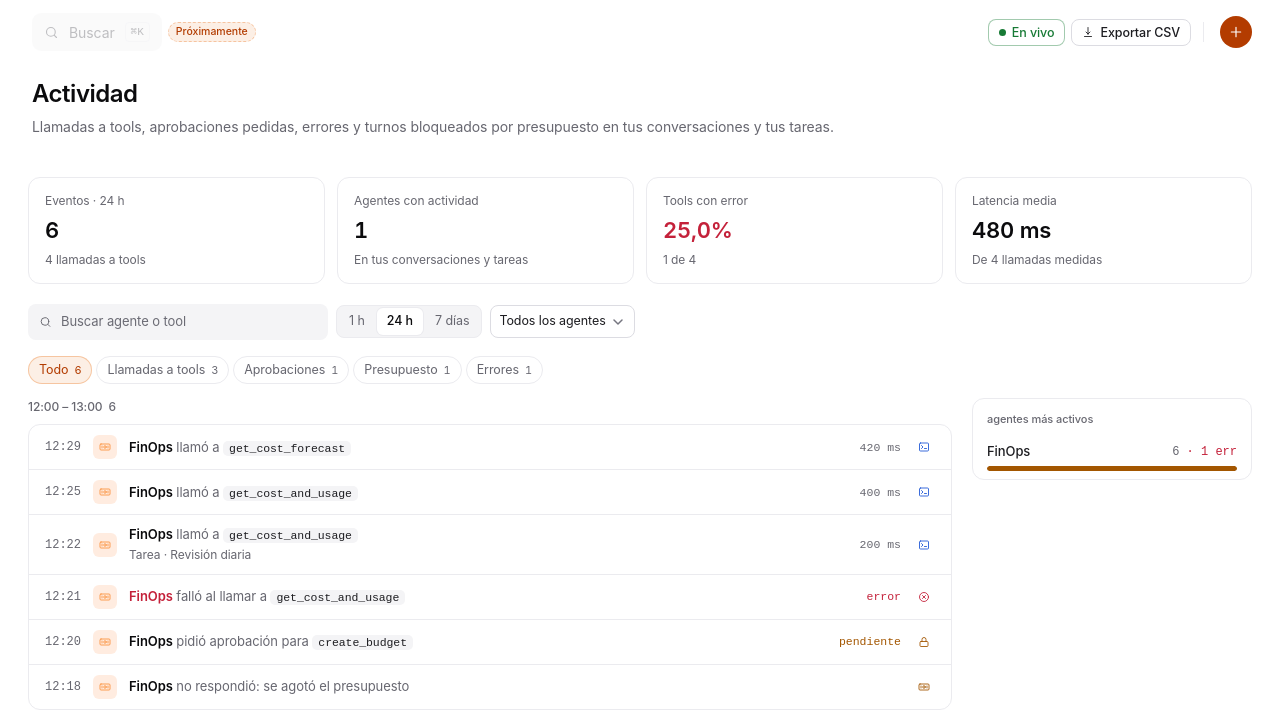
Scenario: ActivityPage › polls every 15 s while live and marks what is new
Check: the text "Tarea · Revisión diaria" is shown, box [129,547,251,562]
Check: the text "get_cost_forecast" is shown, box [223,440,351,456]
Paused: no more polls.
Click the button "En vivo": (1027, 32) [988,18,1066,46]
Wait 60000 ms
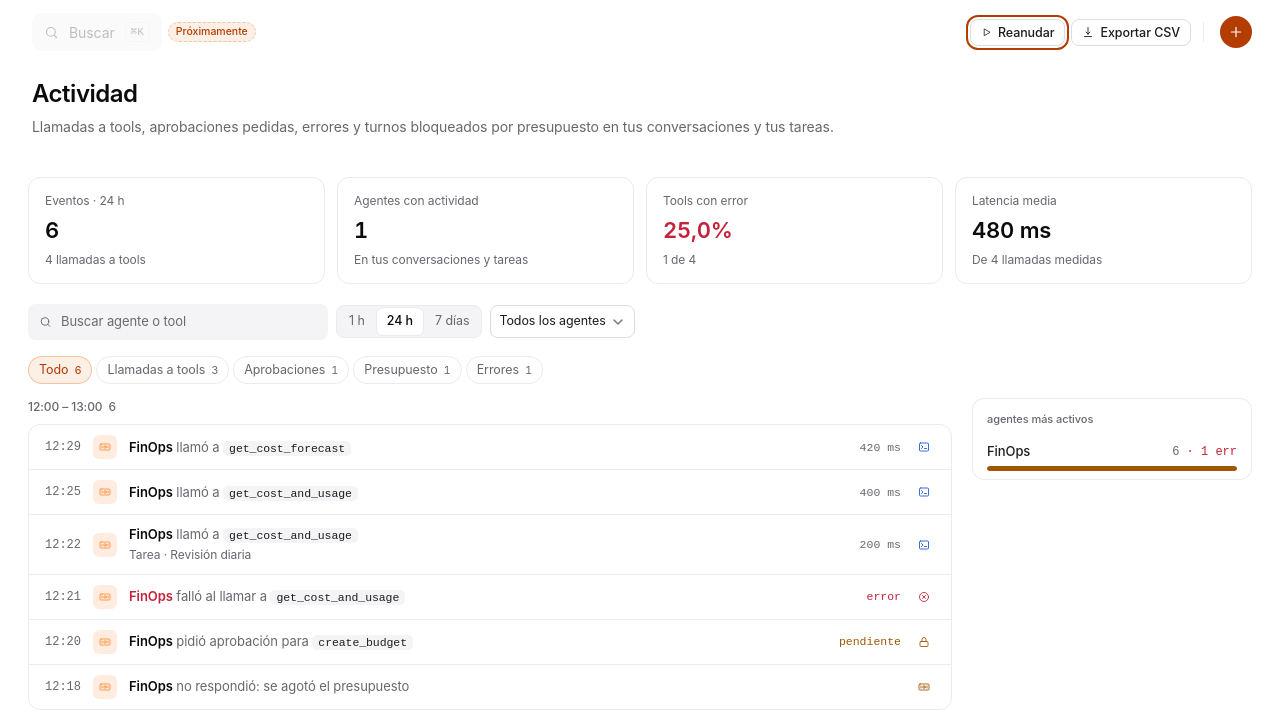
Check: the button "Reanudar" is shown, box [970,18,1065,46]
